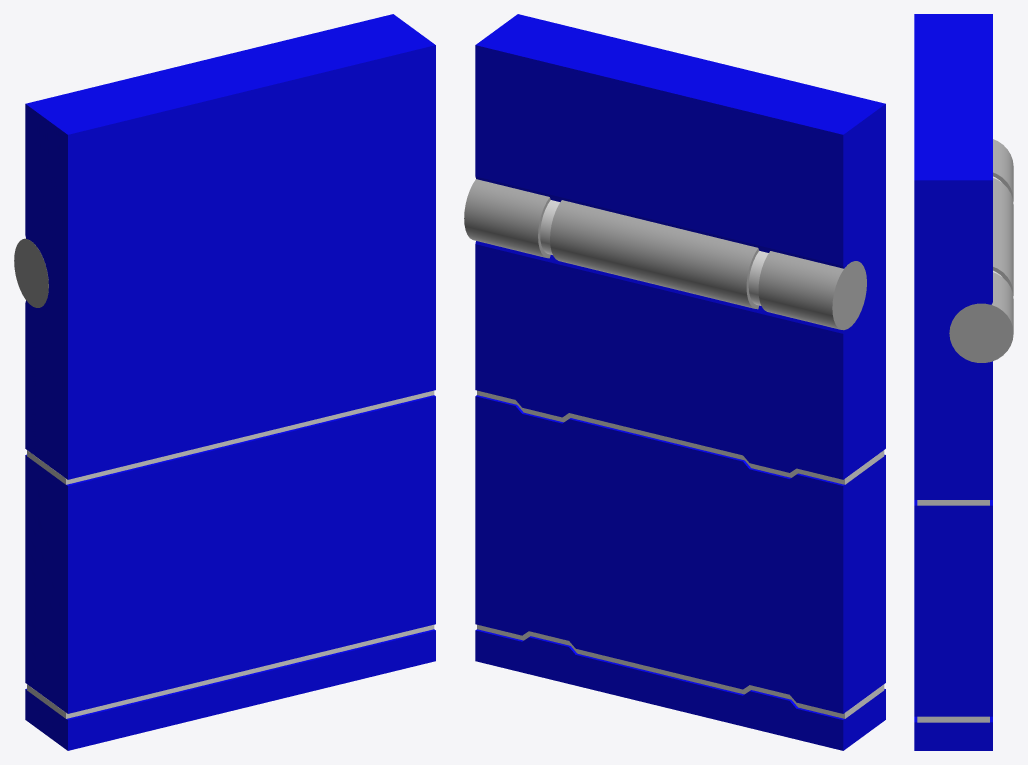
The model's file is Walls1x1Merged.fbx.
The picture shows the model from 3 angles, left to right: view 1: azimuth 30°, elevation 25°; view 2: azimuth 150°, elevation 25°; view 3: azimuth 270°, elevation 25°; orthographic projection. The views are drawn at different scales.
Parts seen in each view (by area): view 1: Wall1x1_Combined; view 2: Wall1x1_Combined; view 3: Wall1x1_Combined.
Boxes of the visible parts, <box> form: Wall1x1_Combined: <box>14,14,435,750</box>; Wall1x1_Combined: <box>464,14,885,750</box>; Wall1x1_Combined: <box>914,14,1013,750</box>.
Size of the model in its own units: 500 by 800 by 126.
